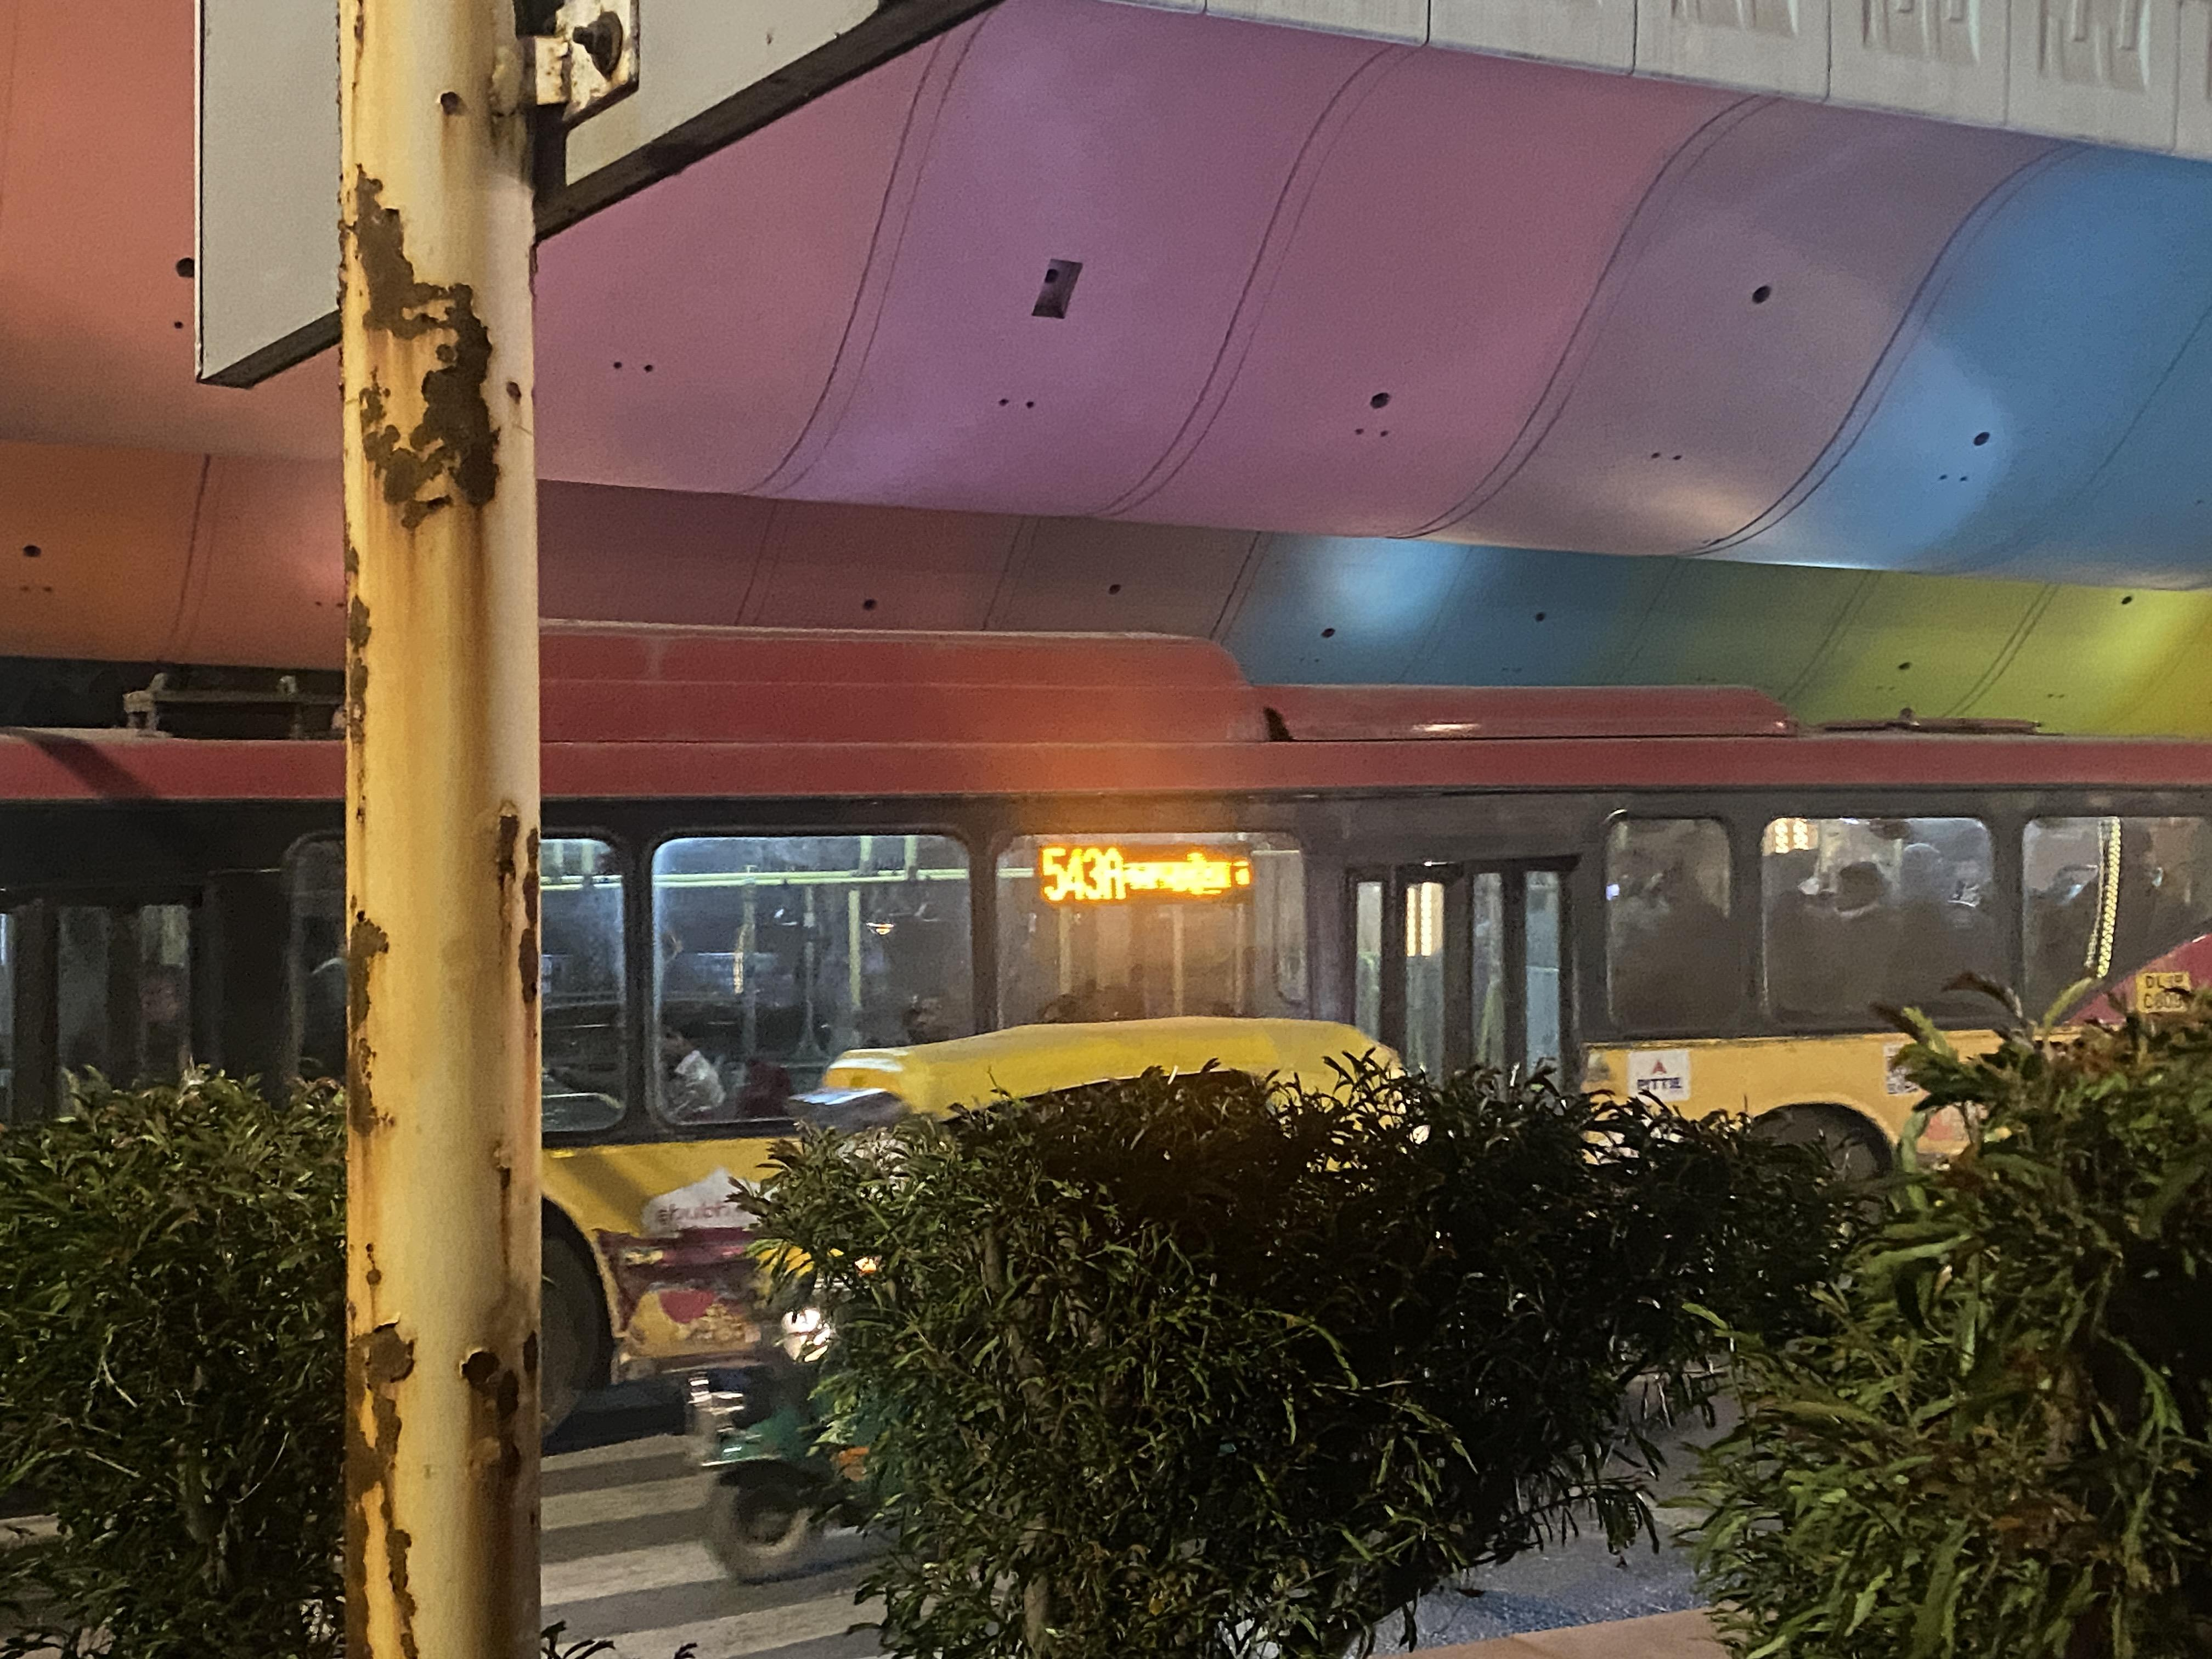Bus: (10, 598, 2212, 1568)
Display Board: (1021, 823, 1301, 955)
